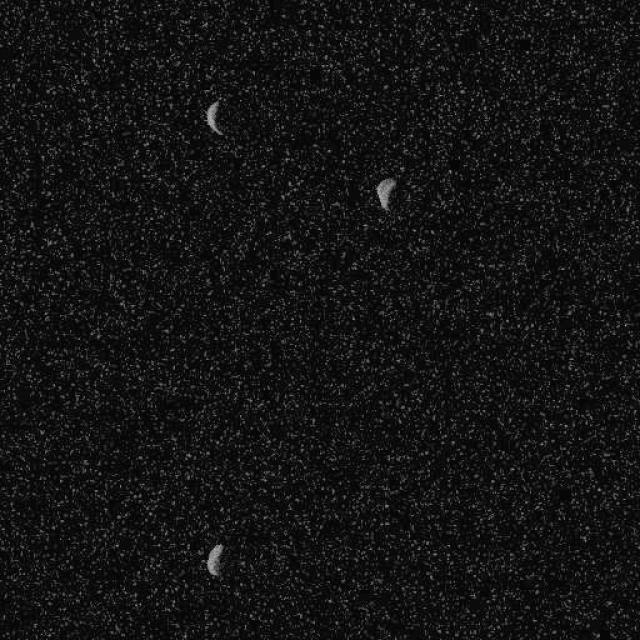D2: (375, 176, 396, 212), (205, 542, 224, 578), (205, 99, 224, 135)
